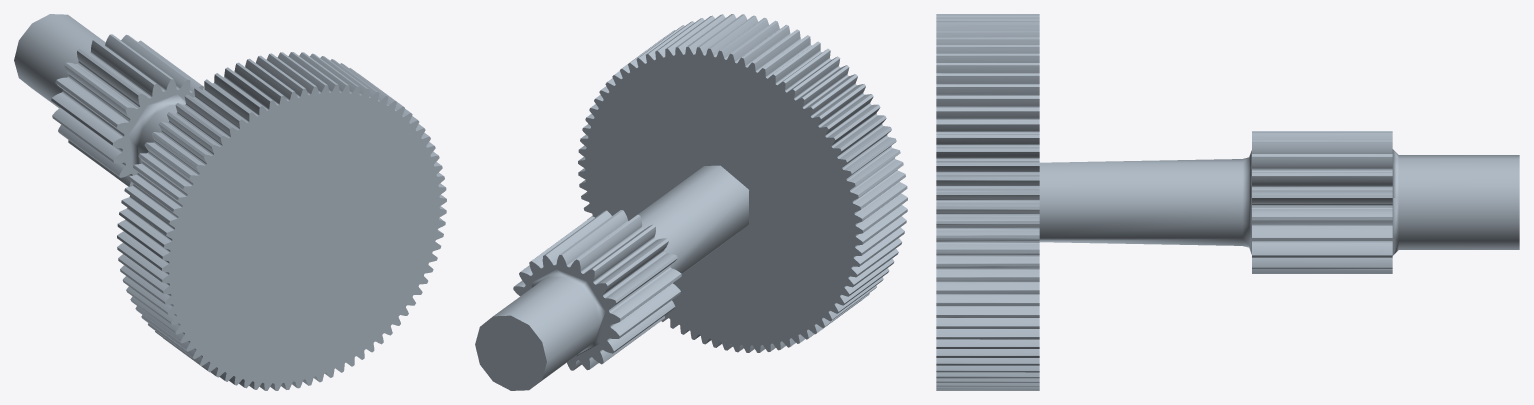
The model's file is sun_pargear1.obj.
The picture shows the model from 3 angles, left to right: view 1: azimuth 30°, elevation 25°; view 2: azimuth 150°, elevation 25°; view 3: azimuth 270°, elevation 25°; orthographic projection. The views are drawn at different scales.
Visible parts, largest first — view 1: 2, 1; view 2: 2, 1; view 3: 1, 2.
Boxes of the visible parts, left/top/right/bottom form: 2: left=117, top=52, right=446, bottom=390; 1: left=14, top=14, right=203, bottom=186; 2: left=578, top=14, right=907, bottom=352; 1: left=475, top=165, right=749, bottom=390; 1: left=1039, top=131, right=1519, bottom=273; 2: left=936, top=14, right=1039, bottom=390.
Bounding box in the file's own units: 603 × 603 × 933.
